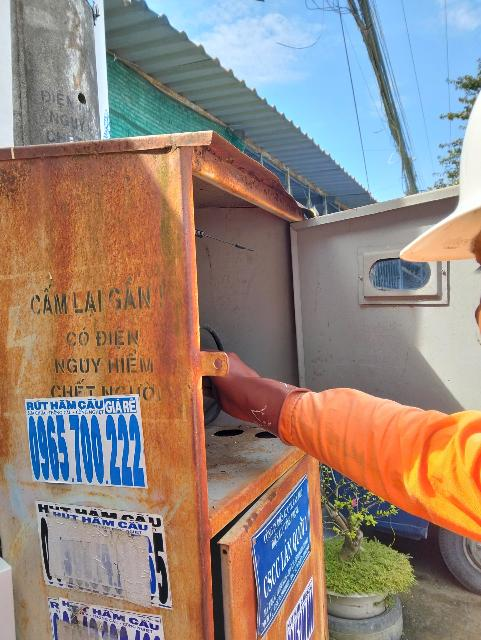gloves: (198, 332, 300, 439)
helmet: (374, 95, 481, 275)
